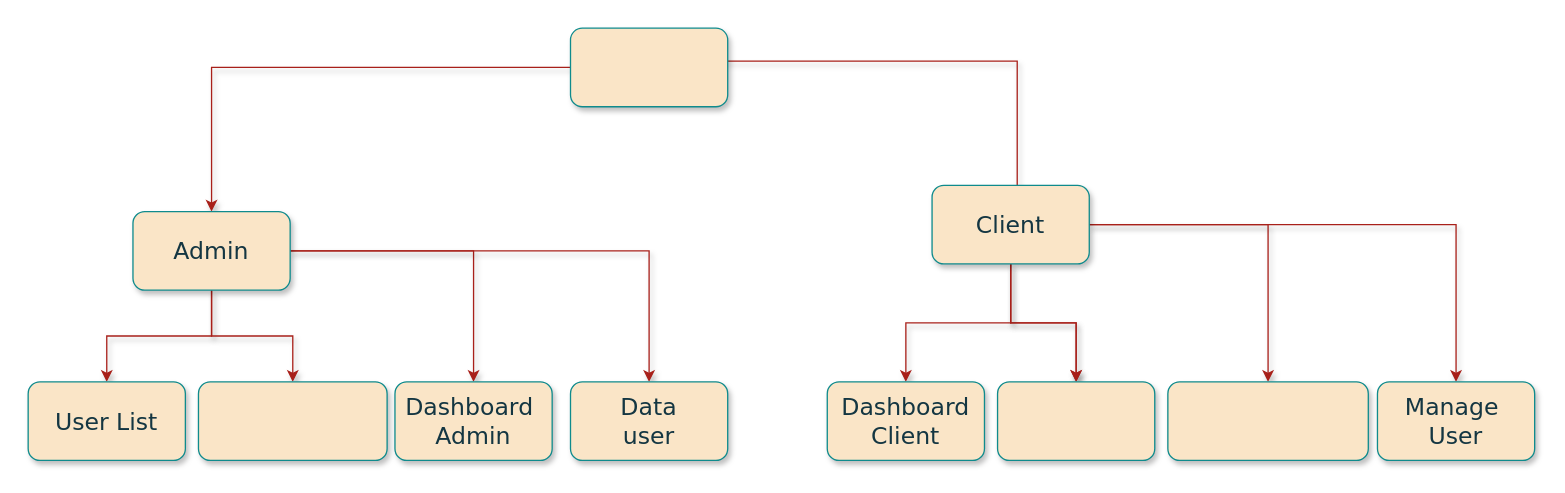
Some shapes in this 1565 by 493 pixel diagram are drawn without their labels. Here are the shapes that lost their labels. From the top down, the centre of each, then its label:
At (650,69): "Login".
At (293,422): "Cryptocurrency List Admin".
At (1077,422): "Wallet".
At (1268,422): "Cryptocurrency List Client".
